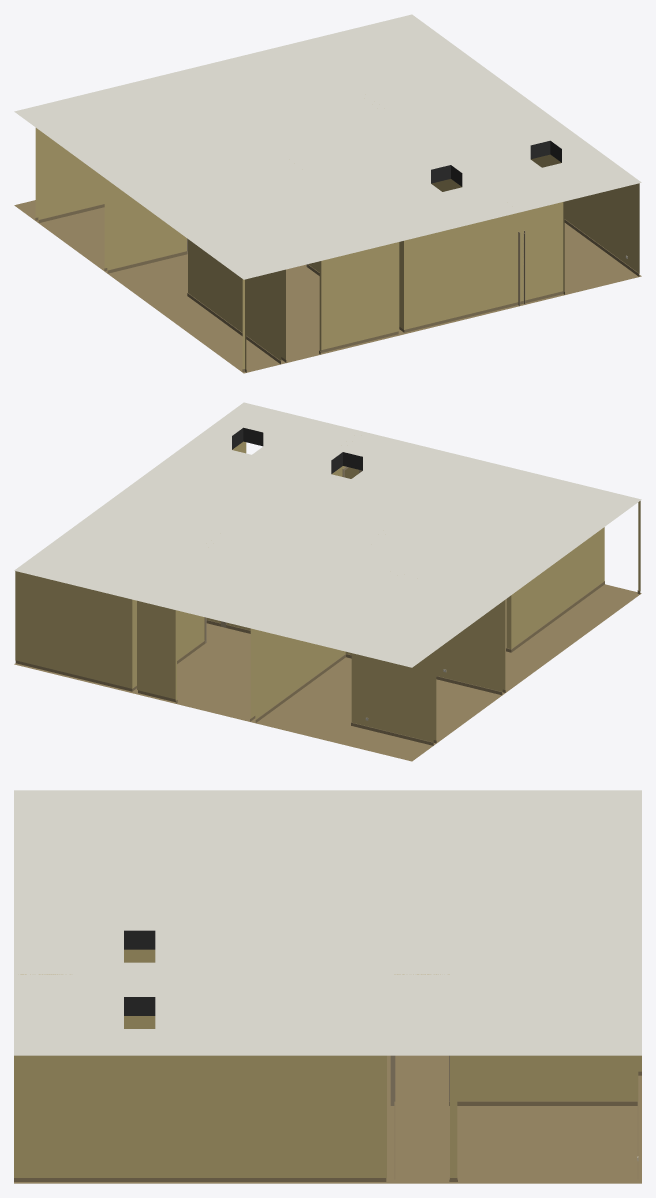
File: chunk_1_3.glb
The picture shows the model from 3 angles, top to bottom: view 1: azimuth 30°, elevation 25°; view 2: azimuth 150°, elevation 25°; view 3: azimuth 270°, elevation 25°; orthographic projection. The views are drawn at different scales.
Parts seen in each view (by area): view 1: chunk_1_3; view 2: chunk_1_3; view 3: chunk_1_3.
Part boxes in pixels (x1,y1,x2,y2): chunk_1_3: (14,14,641,373); chunk_1_3: (14,402,641,761); chunk_1_3: (14,790,641,1183).
Size of the model in its own units: 12.03 by 3.1 by 12.
